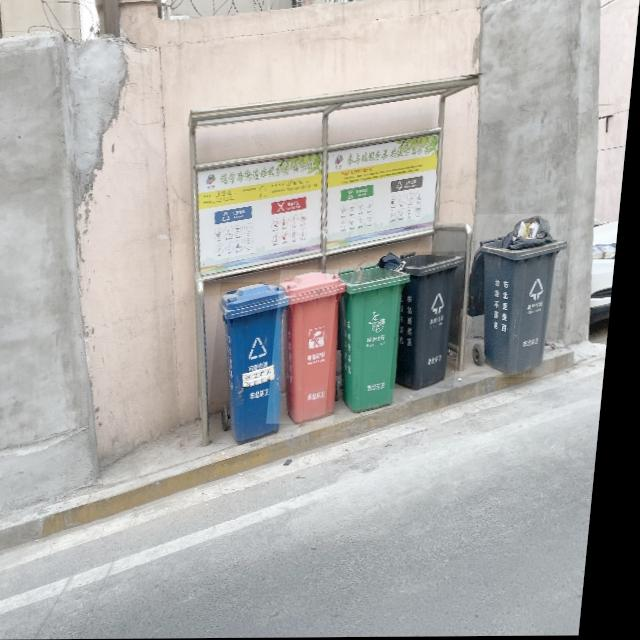garbage_bin: (214, 282, 298, 447), (334, 251, 418, 414), (275, 270, 353, 424), (397, 252, 472, 390)
overflow: (467, 215, 573, 378)
